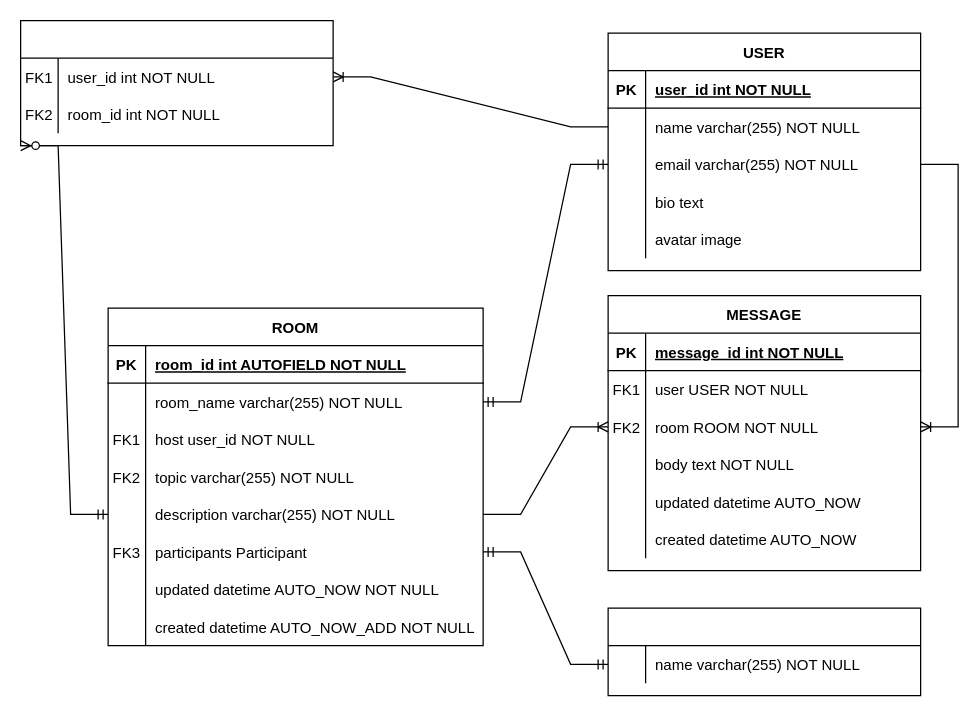
The diagram is 979 pixels wide and 716 high, and some of its shapes have lost their labels. The box of each missing label's shape, as (x1, y1, x2, y2) in pixels:
Participant: (19, 19, 333, 146)
TOPIC: (607, 607, 921, 696)
